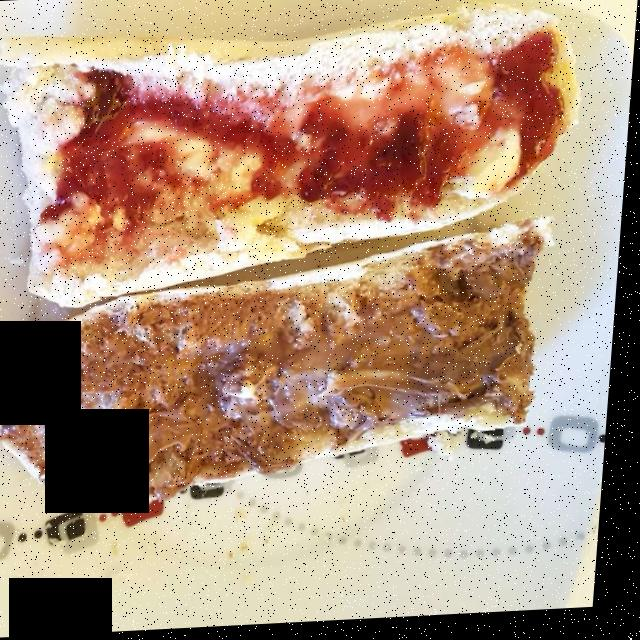bread-french-white-flour: (7, 22, 578, 502)
butter: (52, 88, 517, 275)
butter-spread-puree-almond: (18, 253, 535, 469)
jam: (56, 24, 591, 227)
